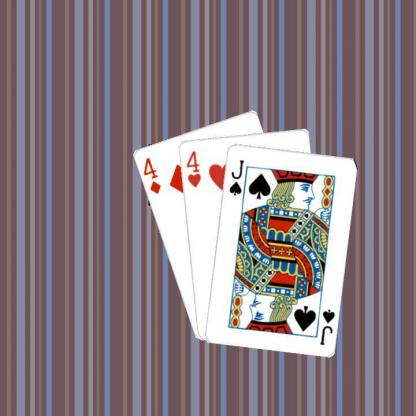4D: (140, 155, 162, 195)
4H: (183, 148, 202, 188)
JS: (226, 157, 245, 197), (317, 306, 336, 346)
